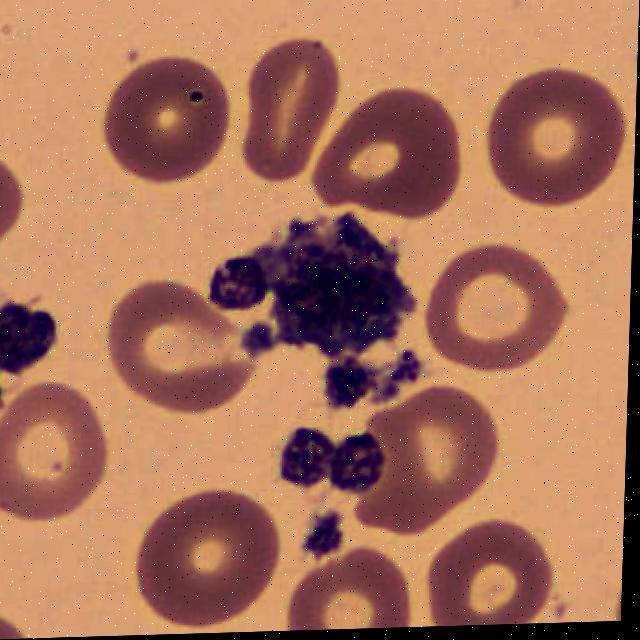platelets: (249, 218, 421, 363), (0, 293, 54, 380), (202, 256, 266, 316), (271, 427, 333, 488), (331, 426, 384, 497), (301, 503, 346, 566)
rbc: (97, 281, 261, 425), (417, 236, 573, 375), (481, 65, 629, 210), (307, 86, 462, 224), (94, 45, 233, 196), (355, 387, 495, 535), (132, 486, 278, 624), (0, 380, 108, 530), (241, 35, 335, 188), (428, 517, 554, 627), (285, 548, 416, 631), (0, 579, 53, 640), (0, 155, 27, 258)
